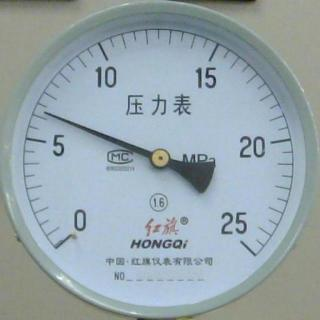gauge: (0, 0, 320, 320), (213, 214, 287, 278), (50, 215, 90, 253), (148, 146, 172, 171), (40, 107, 54, 119)
